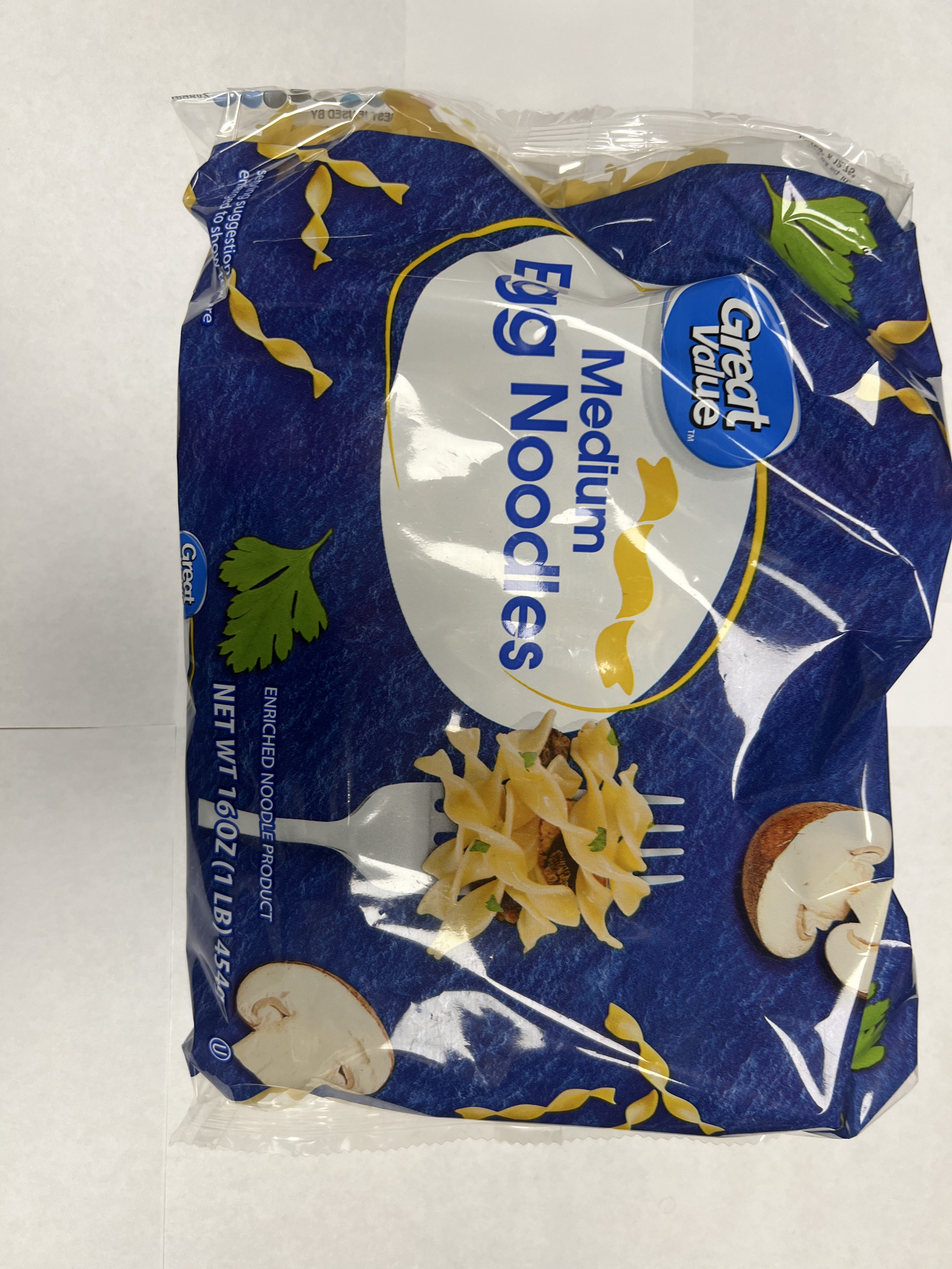packaged: (164, 79, 952, 1158)
